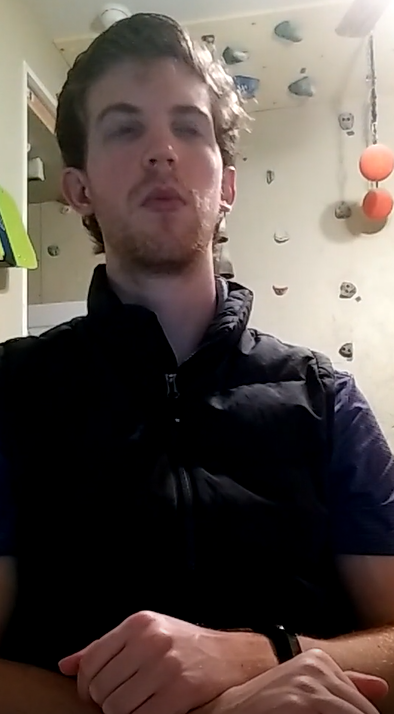Half Asleep: (92, 104, 212, 147)
